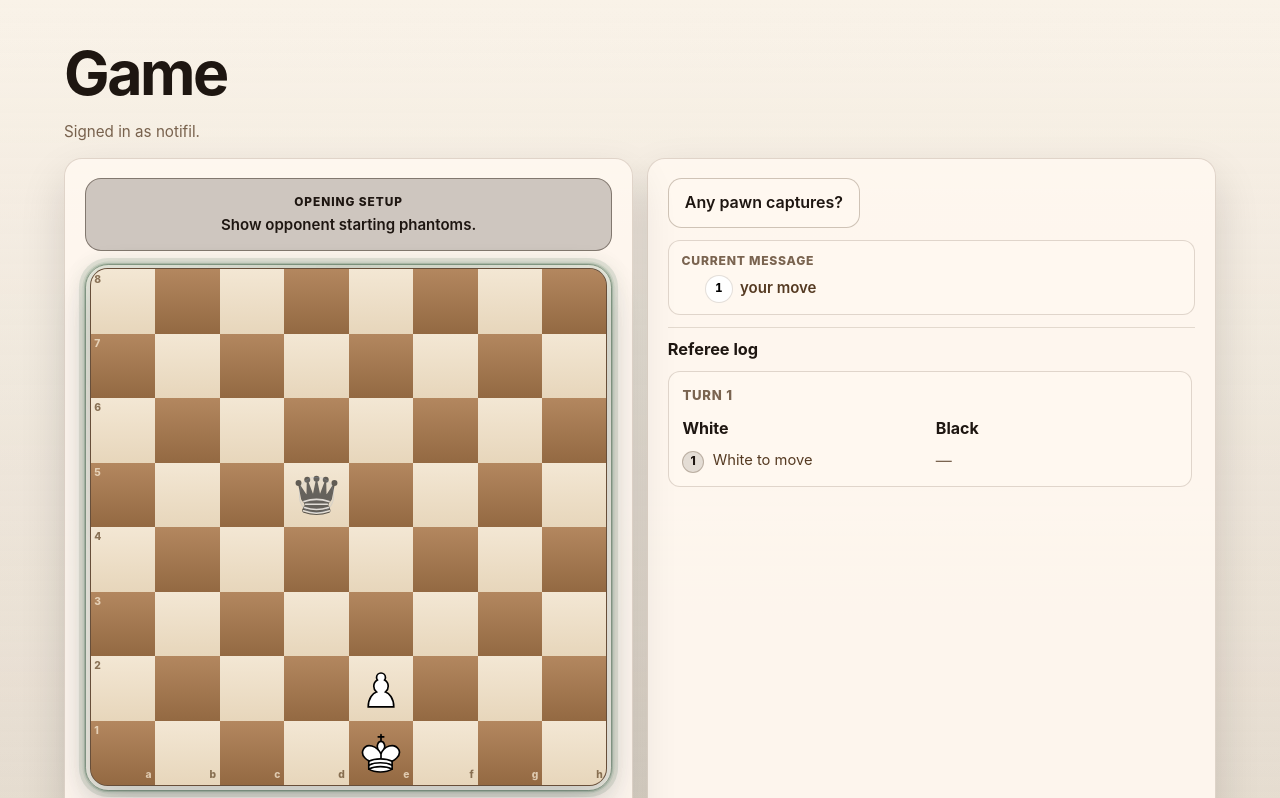
GamePage › shows_completed_summary_from_game_over_submit_response_before_followup_poll_returns
Click the button named "Square e2".
click(381, 688)  # box [349,656,413,721]
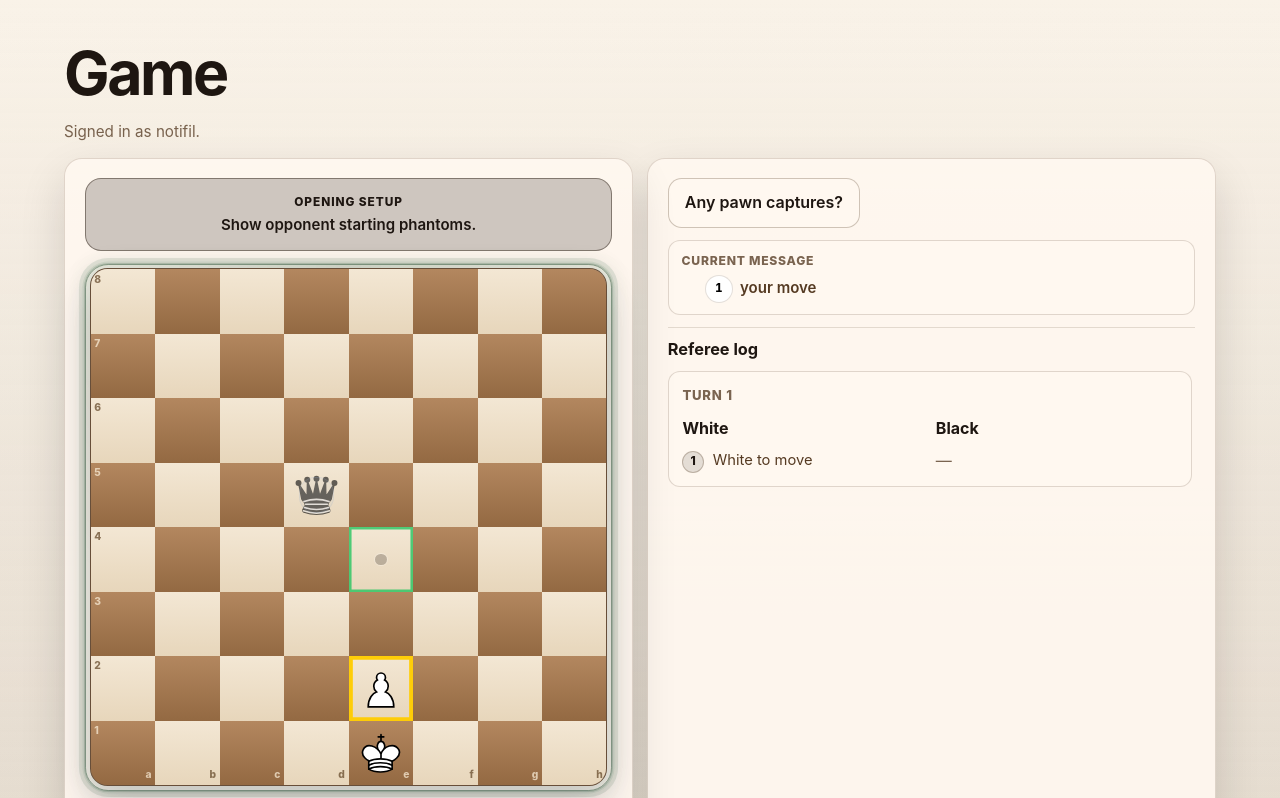
Click the button named "Square e4".
click(381, 559)  # box [349,527,413,592]
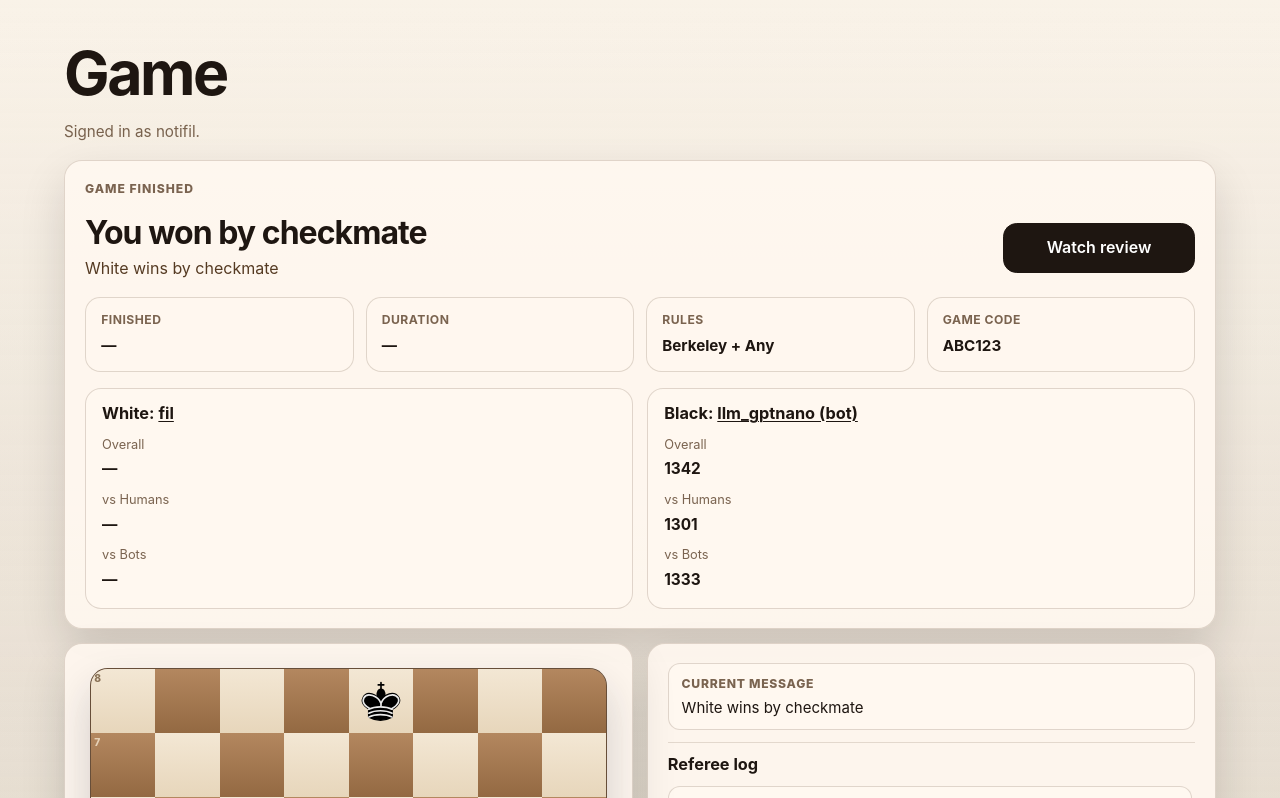
Check: the heading "You won by checkmate" is shown, box [85,215,427,250]
Check: the text "White wins by checkmate" below "You won by checkmate" is shown, box [85,258,279,278]
Check: the element named "Completed game summary" is shown, box [64,160,1216,629]
